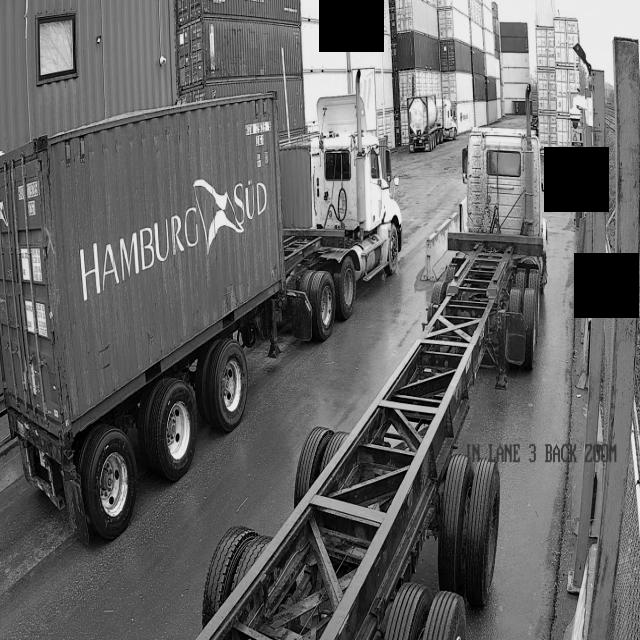container_company_logo: (73, 164, 269, 313)
truck_with_container: (0, 72, 402, 543)
truck_without_container: (196, 113, 553, 640)
